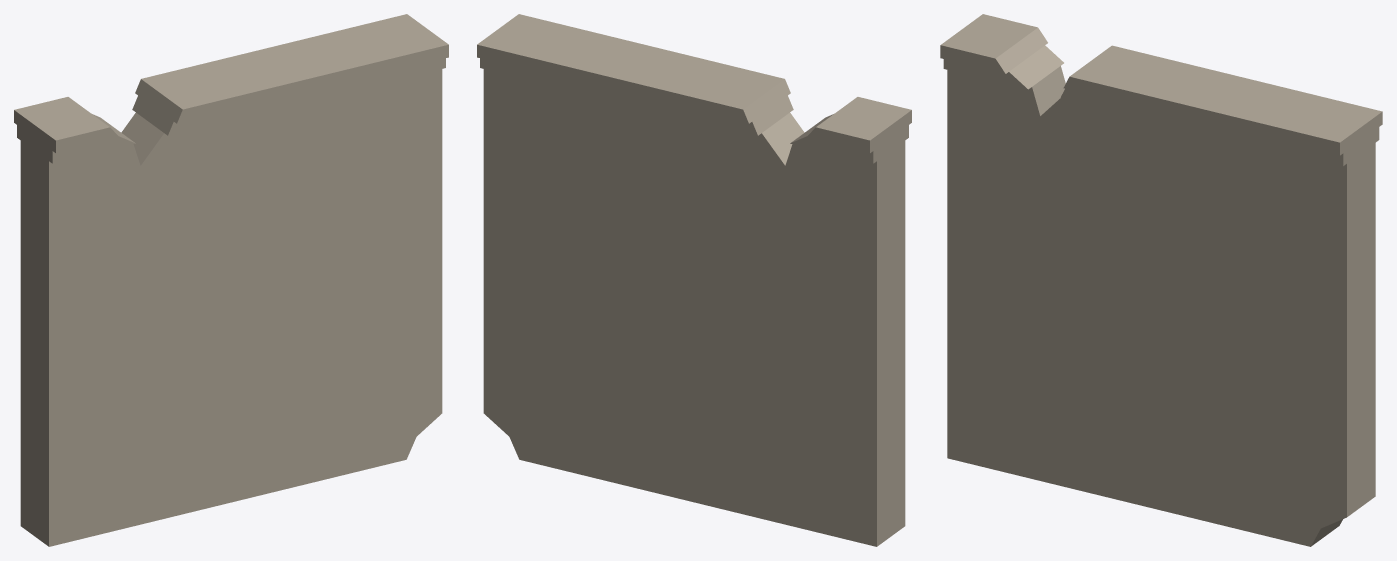
The model's file is Village_Wall_Plaster_2m_Roof_B.fbx.
The picture shows the model from 3 angles, left to right: view 1: azimuth 30°, elevation 25°; view 2: azimuth 150°, elevation 25°; view 3: azimuth 330°, elevation 25°; orthographic projection.
Parts seen in each view (by area): view 1: Village_Wall_2m_Roof_A.184; view 2: Village_Wall_2m_Roof_A.184; view 3: Village_Wall_2m_Roof_A.184.
Part boxes in pixels (left/top/right/bottom): Village_Wall_2m_Roof_A.184: left=14, top=14, right=448, bottom=546; Village_Wall_2m_Roof_A.184: left=477, top=14, right=911, bottom=546; Village_Wall_2m_Roof_A.184: left=940, top=14, right=1382, bottom=546.
Bounding box in the file's own units: 200 × 200 × 36.9.
